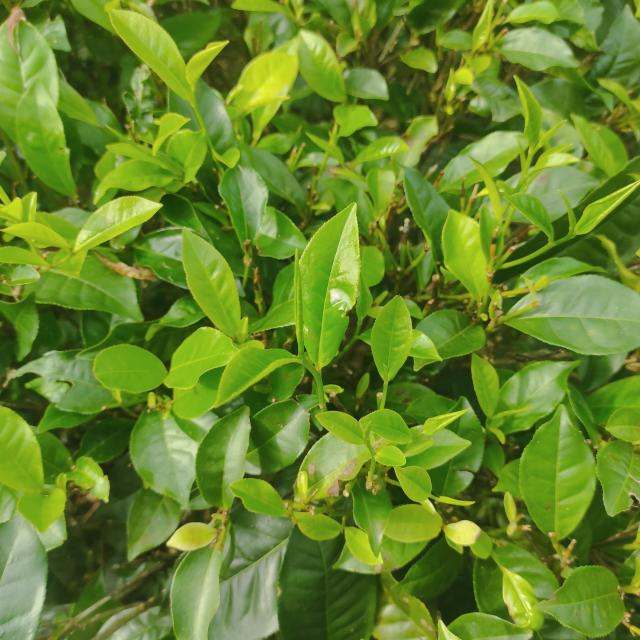unopened_leaf: (286, 244, 310, 364), (526, 111, 574, 159), (486, 396, 542, 429), (552, 184, 580, 237), (512, 132, 532, 167), (358, 417, 381, 447)
